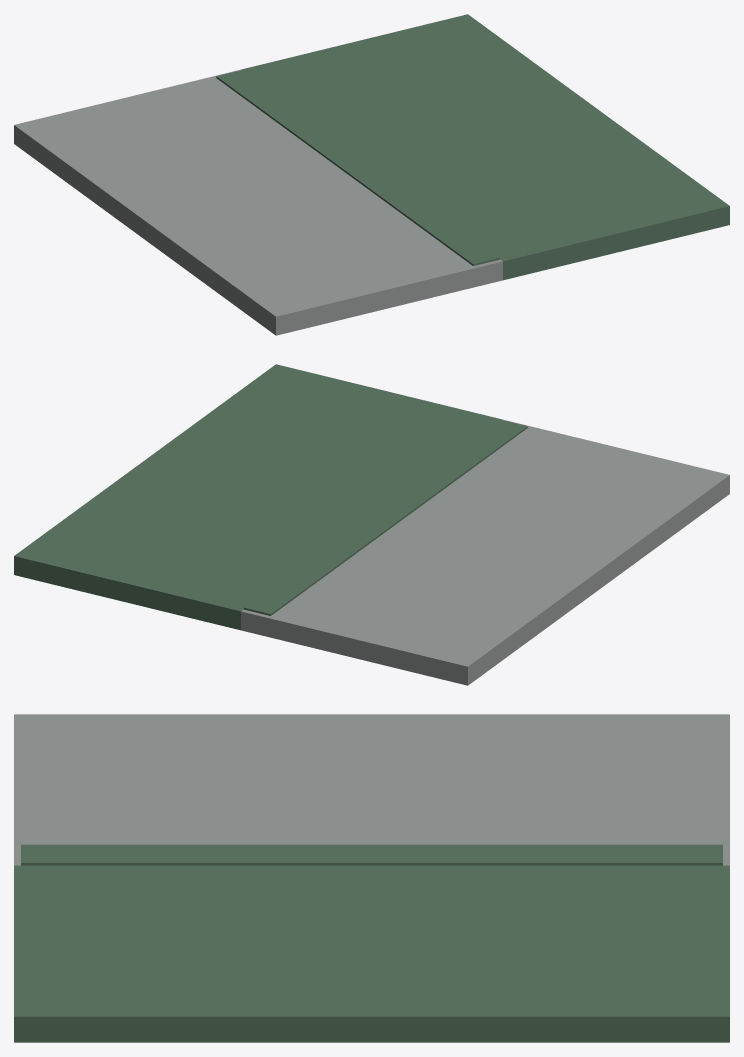
File: tile_sidewalk_grass.glb
The picture shows the model from 3 angles, top to bottom: view 1: azimuth 30°, elevation 25°; view 2: azimuth 150°, elevation 25°; view 3: azimuth 270°, elevation 25°; orthographic projection. The views are drawn at different scales.
Parts seen in each view (by area): view 1: tile_sidewalk_grass; view 2: tile_sidewalk_grass; view 3: tile_sidewalk_grass.
Boxes of the visible parts, x1=… form: tile_sidewalk_grass: x1=14, y1=14, x2=729, y2=335; tile_sidewalk_grass: x1=14, y1=364, x2=729, y2=685; tile_sidewalk_grass: x1=14, y1=714, x2=729, y2=1042.
Bounding box in the file's own units: 2 × 0.088 × 2.
